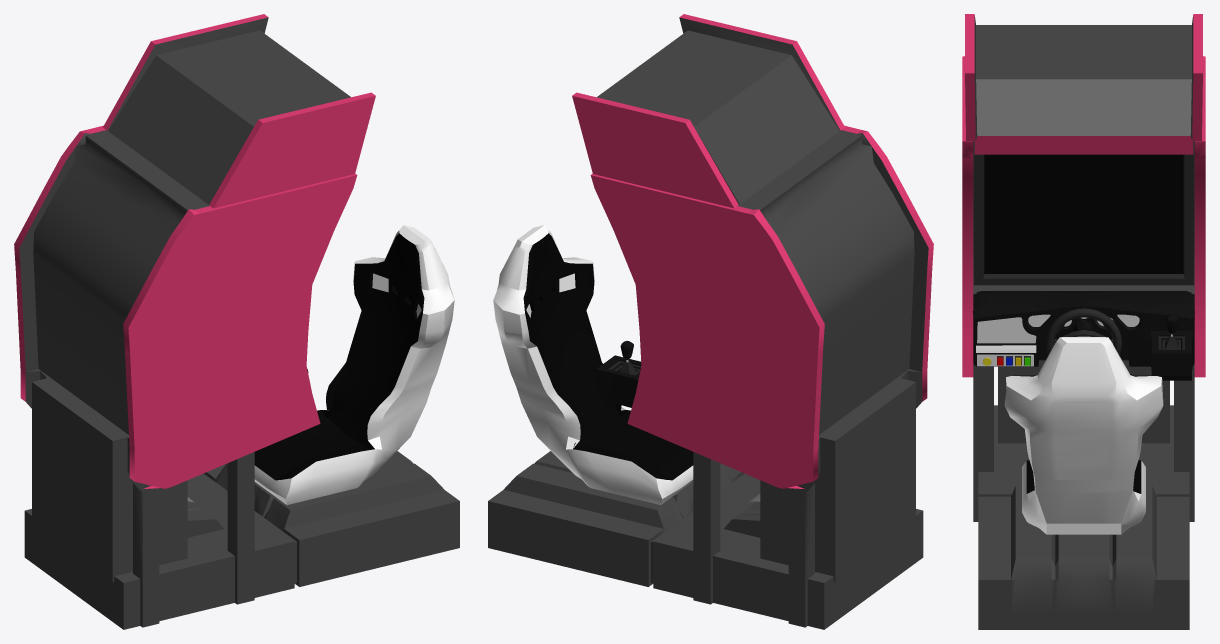
The picture shows the model from 3 angles, left to right: view 1: azimuth 30°, elevation 25°; view 2: azimuth 150°, elevation 25°; view 3: azimuth 270°, elevation 25°; orthographic projection. The views are drawn at different scales.
Parts seen in each view (by area): view 1: cabinet_2, single_marquee_4, seat_5, pedals_0; view 2: cabinet_2, single_marquee_4, seat_5, ctrl_panel_3, pedals_0; view 3: cabinet_2, single_marquee_4, seat_5, ctrl_panel_3, ketz_steering_wheel_1.
Boxes of the visible parts, box(x1,y1,x2,y2) form: cabinet_2: box(14, 125, 459, 629); single_marquee_4: box(103, 14, 375, 208); seat_5: box(254, 225, 454, 504); pedals_0: box(187, 498, 223, 537); cabinet_2: box(488, 125, 933, 629); single_marquee_4: box(572, 14, 844, 208); seat_5: box(493, 225, 693, 504); ctrl_panel_3: box(596, 341, 641, 407); pedals_0: box(724, 494, 760, 537); cabinet_2: box(962, 56, 1205, 629); single_marquee_4: box(965, 14, 1202, 140); seat_5: box(1004, 336, 1163, 534); ctrl_panel_3: box(972, 291, 1194, 380); ketz_steering_wheel_1: box(1046, 308, 1121, 355).
Bounding box in the file's own units: 14.33 × 18.04 × 7.8.
